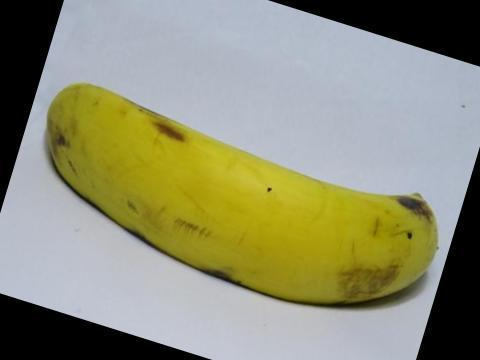freshripe: (36, 64, 456, 324)
